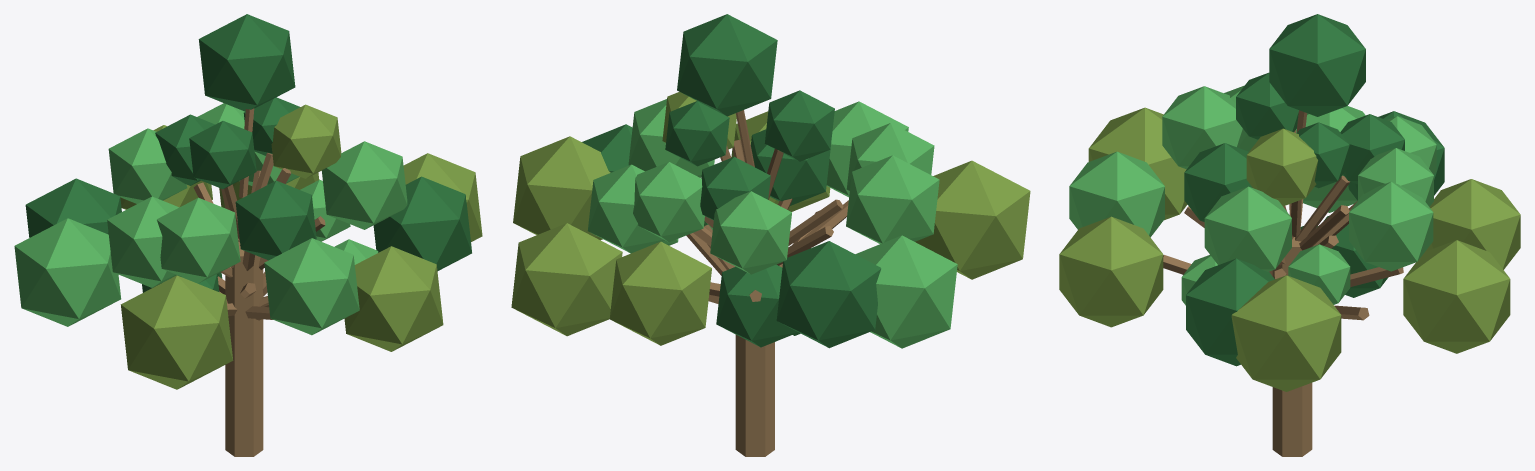
Rendered from Tree_20.glb.
3 views of the same model, side by side, from view 1: azimuth 30°, elevation 25°; view 2: azimuth 150°, elevation 25°; view 3: azimuth 270°, elevation 25° (orthographic). The views are drawn at different scales.
Parts seen in each view (by area): view 1: T20_Sphere_07, T20_Sphere_11, T20_Sphere_08, T20_Sphere_03, T20_Sphere_12, T20_Trunk, T20_Sphere_13, T20_Sphere_18, T20_Sphere_20, T20_Sphere_17, T20_Sphere_16, T20_Sphere_23 (+11 smaller); view 2: T20_Sphere_05, T20_Sphere_07, T20_Sphere_06, T20_Sphere_10, T20_Sphere_03, T20_Sphere_11, T20_Sphere_09, T20_Sphere_16, T20_Sphere_15, T20_Trunk, T20_Sphere_19, T20_Sphere_02 (+13 smaller); view 3: T20_Sphere_09, T20_Sphere_05, T20_Sphere_08, T20_Sphere_03, T20_Sphere_12, T20_Sphere_14, T20_Sphere_18, T20_Sphere_10, T20_Sphere_13, T20_Sphere_20, T20_Sphere_07, T20_Sphere_23 (+15 smaller).
Part boxes in pixels (left/top/right/bottom): T20_Sphere_07: left=120, top=275, right=233, bottom=389; T20_Sphere_11: left=14, top=218, right=121, bottom=326; T20_Sphere_08: left=344, top=246, right=443, bottom=351; T20_Sphere_03: left=198, top=14, right=295, bottom=111; T20_Sphere_12: left=264, top=238, right=359, bottom=335; T20_Trunk: left=225, top=249, right=263, bottom=456; T20_Sphere_13: left=373, top=176, right=471, bottom=271; T20_Sphere_18: left=322, top=141, right=407, bottom=229; T20_Sphere_20: left=157, top=197, right=240, bottom=283; T20_Sphere_17: left=235, top=180, right=316, bottom=260; T20_Sphere_16: left=107, top=196, right=178, bottom=287; T20_Sphere_23: left=271, top=104, right=341, bottom=178; T20_Sphere_05: left=511, top=223, right=622, bottom=336; T20_Sphere_07: left=915, top=160, right=1030, bottom=279; T20_Sphere_06: left=776, top=241, right=881, bottom=348; T20_Sphere_10: left=609, top=241, right=711, bottom=345; T20_Sphere_03: left=677, top=14, right=777, bottom=116; T20_Sphere_11: left=855, top=235, right=957, bottom=348; T20_Sphere_09: left=513, top=136, right=610, bottom=240; T20_Sphere_16: left=846, top=155, right=939, bottom=243; T20_Sphere_15: left=710, top=191, right=791, bottom=274; T20_Trunk: left=735, top=335, right=774, bottom=456; T20_Sphere_19: left=633, top=162, right=704, bottom=242; T20_Sphere_02: left=716, top=264, right=798, bottom=347; T20_Sphere_09: left=1231, top=275, right=1341, bottom=391; T20_Sphere_05: left=1403, top=240, right=1510, bottom=353; T20_Sphere_08: left=1059, top=216, right=1163, bottom=327; T20_Sphere_03: left=1269, top=14, right=1365, bottom=116; T20_Sphere_12: left=1069, top=151, right=1164, bottom=237; T20_Sphere_14: left=1349, top=181, right=1433, bottom=271; T20_Sphere_18: left=1204, top=186, right=1291, bottom=271; T20_Sphere_10: left=1425, top=179, right=1520, bottom=269; T20_Sphere_13: left=1186, top=258, right=1274, bottom=366; T20_Sphere_20: left=1162, top=86, right=1243, bottom=169; T20_Sphere_07: left=1088, top=107, right=1187, bottom=220; T20_Sphere_23: left=1246, top=128, right=1317, bottom=206.
Size of what is drawn, in the model's own units: 3.17 by 2.96 by 2.79.
